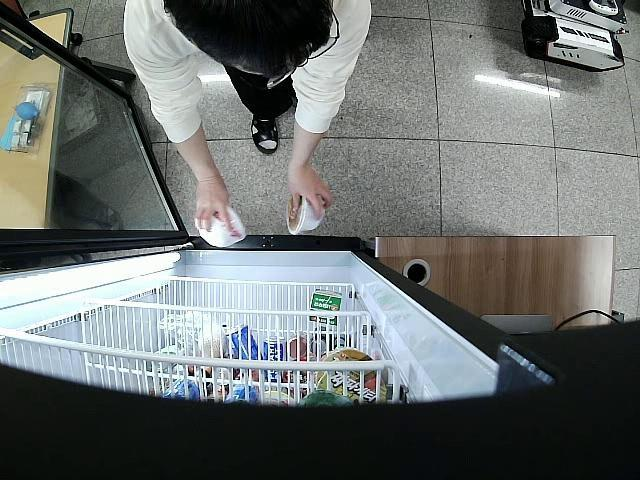09_yukGaeJang: (192, 200, 246, 248), (288, 193, 326, 236)
